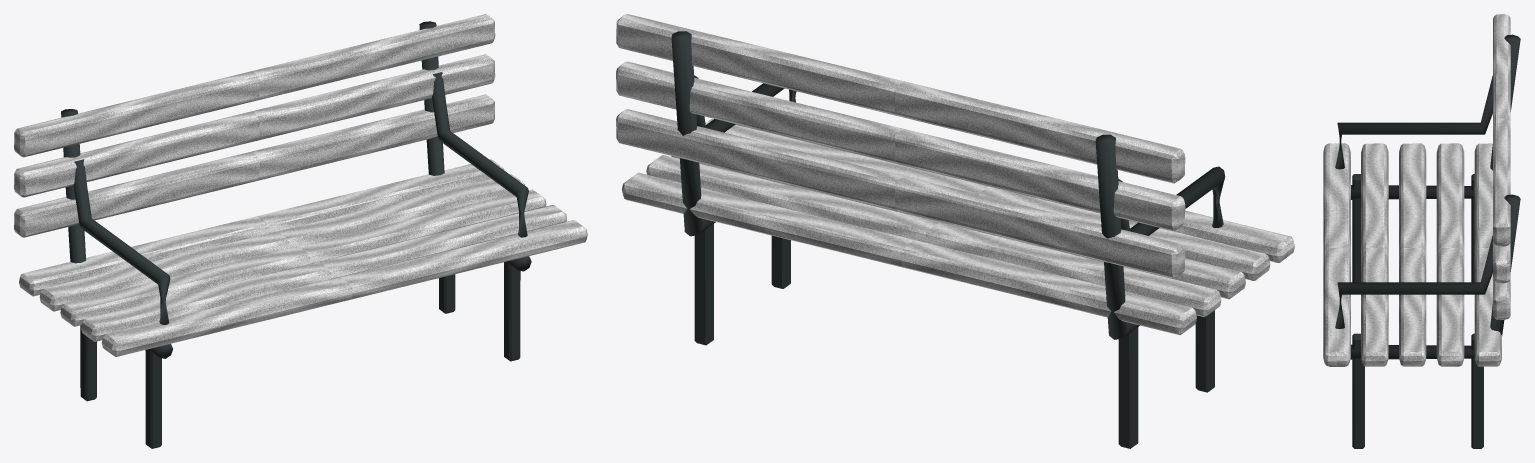
File: bench_lod1.glb
The picture shows the model from 3 angles, left to right: view 1: azimuth 30°, elevation 25°; view 2: azimuth 150°, elevation 25°; view 3: azimuth 270°, elevation 25°; orthographic projection. The views are drawn at different scales.
Visible parts, largest first — view 1: bench_body.001; view 2: bench_body.001; view 3: bench_body.001.
Part boxes in pixels (x1,y1,x2,y2): bench_body.001: [14, 14, 587, 448]; bench_body.001: [616, 14, 1294, 448]; bench_body.001: [1323, 14, 1520, 448].
Size of the model in its own units: 1.86 by 1.02 by 0.7307.
Materials: 2 (1 with a texture image).
